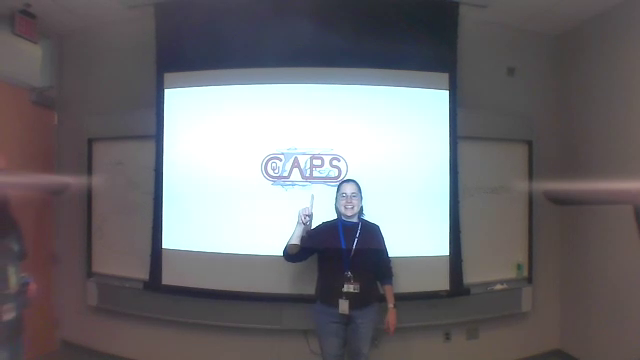up: (291, 192, 315, 228)
